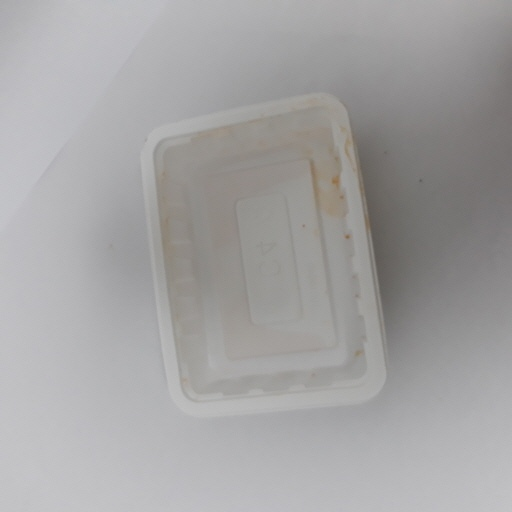Plastic_4: (138, 92, 392, 417)
